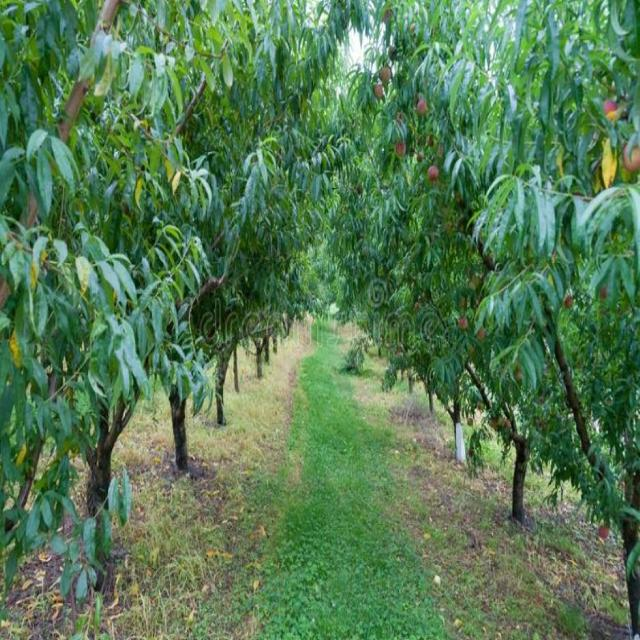row: (41, 318, 599, 640)
